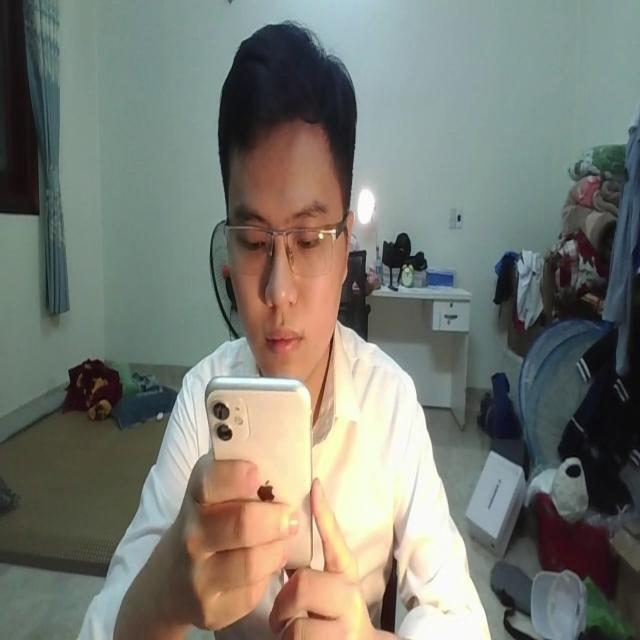phone: (201, 364, 313, 566)
student: (84, 19, 492, 640)
